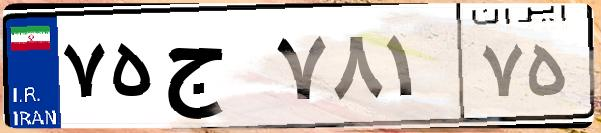1: (385, 28, 445, 110)
5: (525, 38, 570, 115), (110, 28, 158, 98)
7: (270, 28, 330, 110), (57, 26, 110, 100), (475, 38, 525, 113)
8: (330, 28, 385, 110)
ج: (158, 20, 270, 120)
